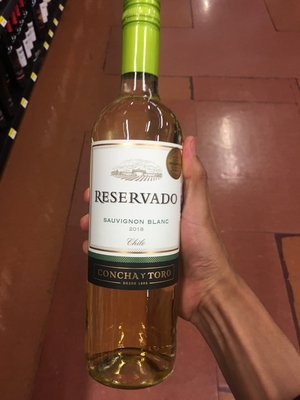reservado sauvignon blanc: (92, 15, 180, 377)
